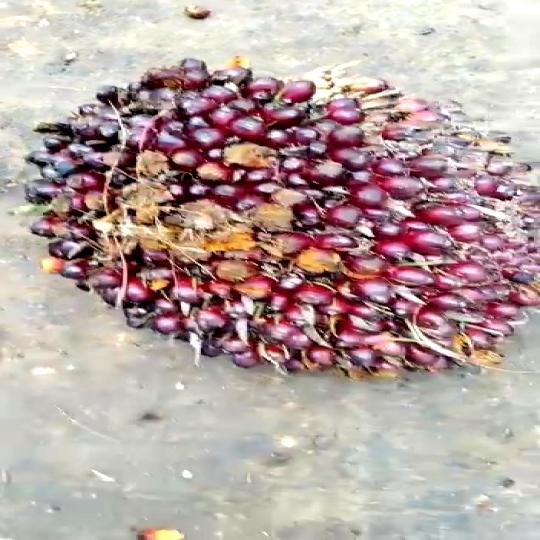kurang masak: (23, 55, 540, 389)
